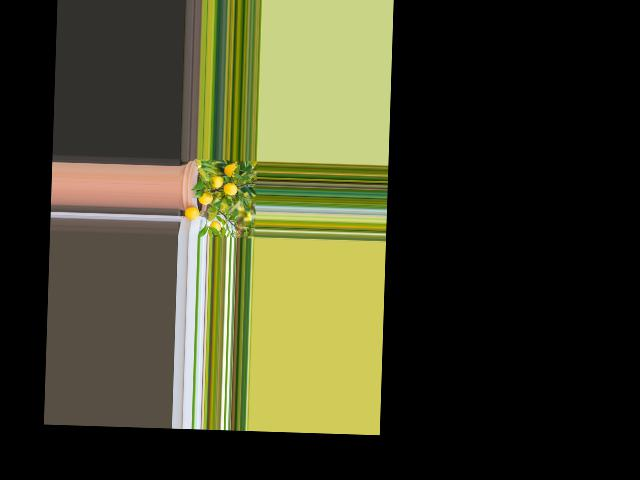lemon: (207, 220, 222, 231)
